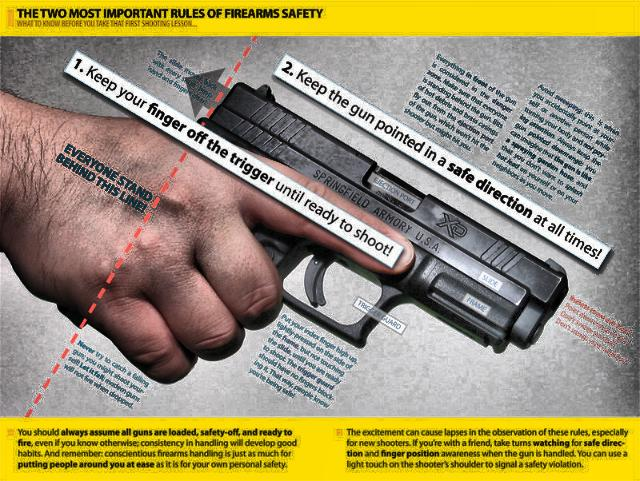pistol: (192, 74, 570, 374)
